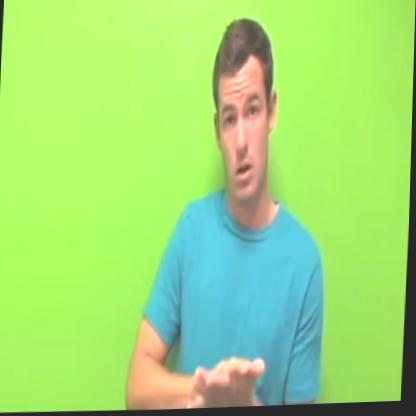NiceToMeetYou: (179, 330, 276, 411)
